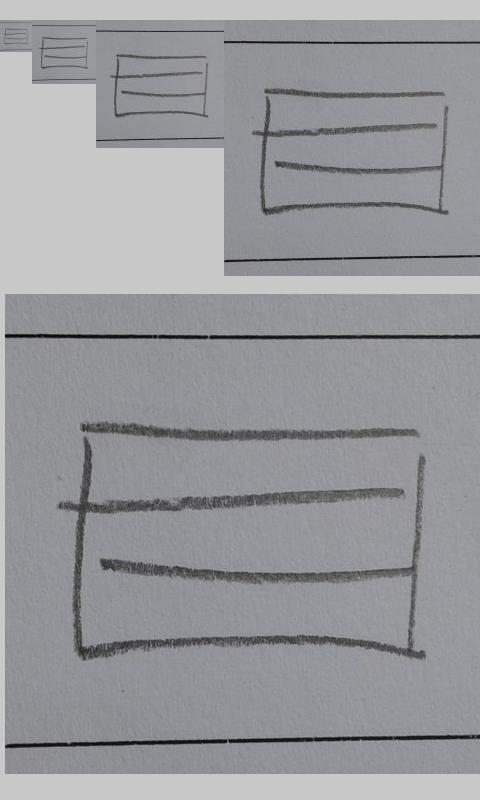list_view: (73, 417, 428, 659), (259, 86, 448, 216), (113, 53, 210, 117), (40, 36, 88, 70), (3, 28, 29, 45)
